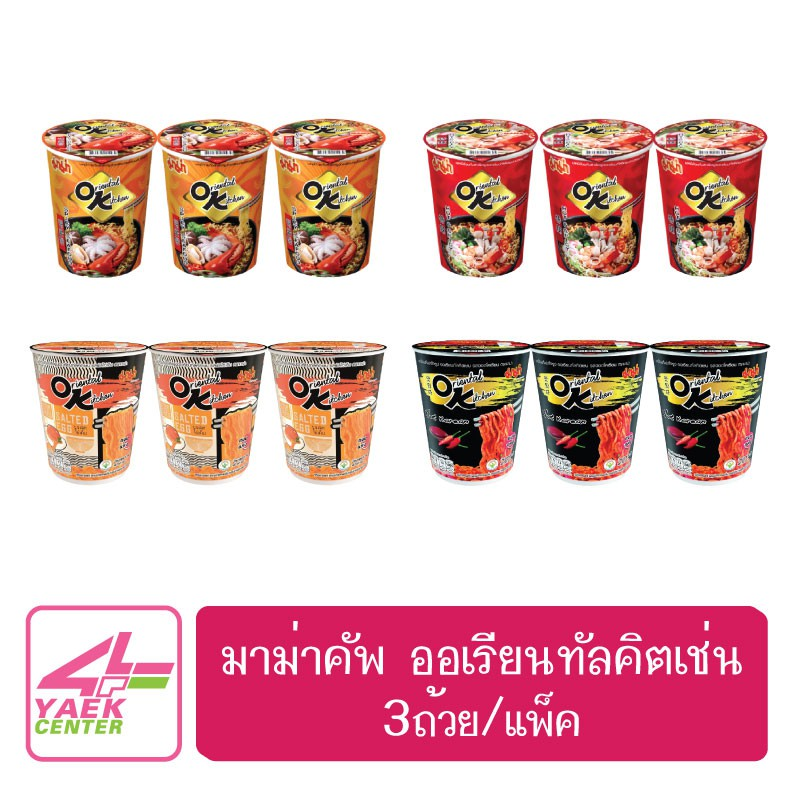PaperCup: (420, 116, 539, 281)
